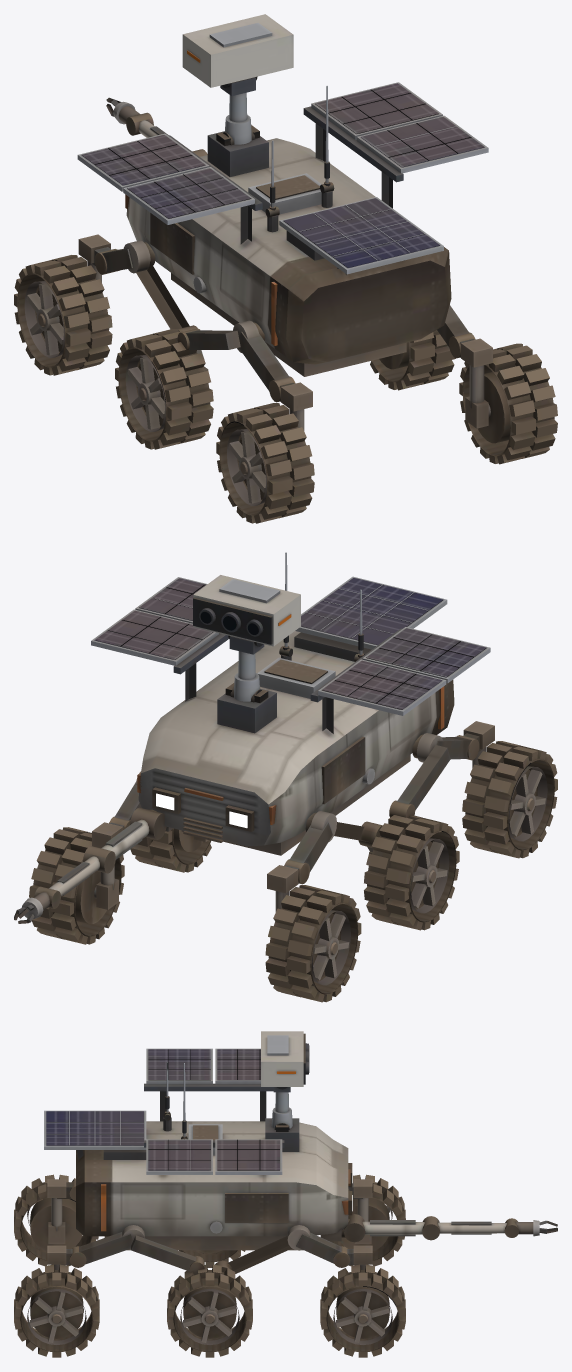
Rendered from rover-orv7.glb.
The picture shows the model from 3 angles, top to bottom: view 1: azimuth 30°, elevation 25°; view 2: azimuth 150°, elevation 25°; view 3: azimuth 270°, elevation 25°; orthographic projection. The views are drawn at different scales.
Parts seen in each view (by area): view 1: Body, Wheel_FL, Wheel_RL, Wheel_ML, Wheel_RR, Head, Panel_L2, Panel_R2, Panel_L1, Panel_R1, Wheel_MR, Leg_RL (+6 smaller); view 2: Body, Wheel_FL, Wheel_RL, Wheel_ML, Wheel_FR, Head, Panel_L1, Panel_R1, Panel_L2, Leg_FL, Wheel_MR, Leg_FR (+9 smaller); view 3: Body, Wheel_FR, Wheel_RR, Wheel_MR, Wheel_RL, Head, Panel_R1, Panel_L2, Panel_R2, Wheel_FL, Leg_RR, Leg_FR (+11 smaller).
Part boxes in pixels (bbox=[...]): Body: bbox=[125, 106, 451, 376]; Wheel_FL: bbox=[14, 255, 112, 375]; Wheel_RL: bbox=[216, 403, 314, 523]; Wheel_ML: bbox=[115, 329, 213, 449]; Wheel_RR: bbox=[459, 343, 557, 464]; Head: bbox=[182, 14, 293, 88]; Panel_L2: bbox=[123, 167, 254, 224]; Panel_R2: bbox=[356, 115, 488, 173]; Panel_L1: bbox=[77, 133, 209, 191]; Panel_R1: bbox=[311, 82, 442, 139]; Wheel_MR: bbox=[370, 330, 455, 390]; Leg_RL: bbox=[233, 320, 312, 430]; Body: bbox=[137, 576, 454, 855]; Wheel_FL: bbox=[265, 885, 361, 1002]; Wheel_RL: bbox=[462, 741, 557, 858]; Wheel_ML: bbox=[364, 815, 459, 930]; Wheel_FR: bbox=[29, 827, 124, 944]; Head: bbox=[193, 575, 300, 646]; Panel_L1: bbox=[318, 659, 446, 715]; Panel_R1: bbox=[91, 609, 218, 665]; Panel_L2: bbox=[362, 627, 490, 683]; Leg_FL: bbox=[267, 811, 336, 911]; Wheel_MR: bbox=[130, 828, 211, 872]; Leg_FR: bbox=[92, 771, 141, 909]; Body: bbox=[44, 1083, 352, 1250]; Wheel_FR: bbox=[320, 1264, 405, 1357]; Wheel_RR: bbox=[14, 1264, 99, 1357]; Wheel_MR: bbox=[167, 1264, 252, 1357]; Wheel_RL: bbox=[14, 1174, 98, 1266]; Head: bbox=[261, 1031, 309, 1089]; Panel_R1: bbox=[215, 1139, 282, 1174]; Panel_L2: bbox=[146, 1048, 212, 1084]; Panel_R2: bbox=[146, 1139, 212, 1174]; Wheel_FL: bbox=[330, 1174, 405, 1266]; Leg_RR: bbox=[47, 1225, 144, 1269]; Leg_FR: bbox=[287, 1225, 372, 1269].
Bounding box in the file's own units: 1.32 × 1.35 × 2.56.
Materials: 2 (1 with a texture image).
